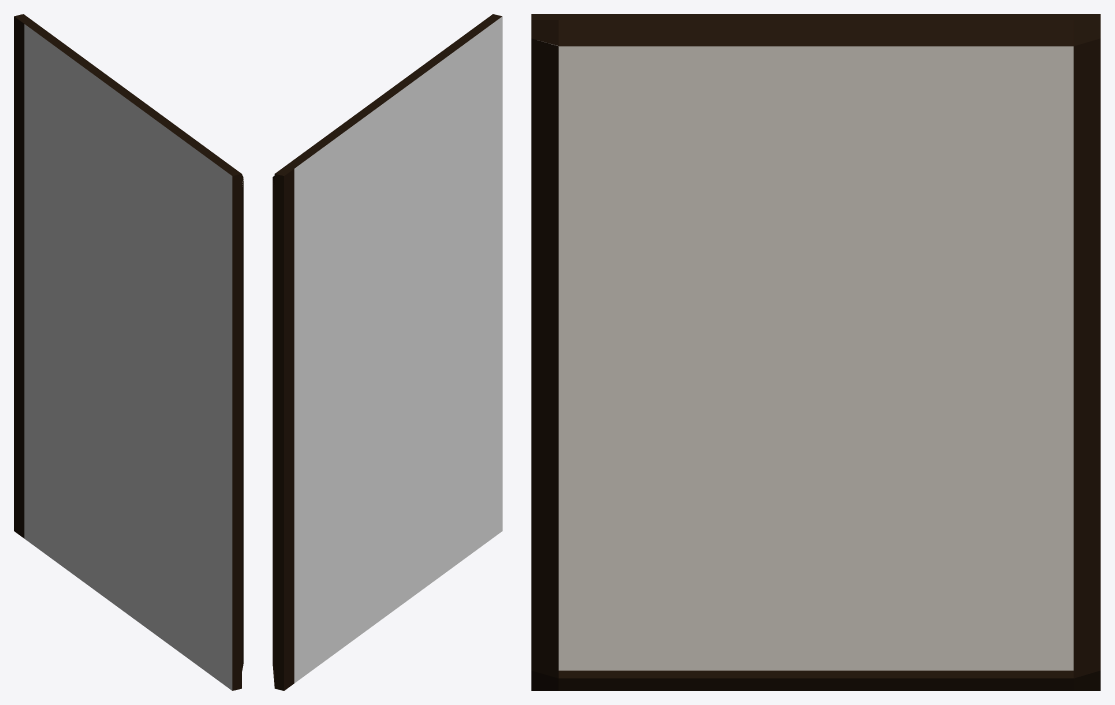
File: portrait.fbx
The picture shows the model from 3 angles, left to right: view 1: azimuth 30°, elevation 25°; view 2: azimuth 150°, elevation 25°; view 3: azimuth 270°, elevation 25°; orthographic projection. The views are drawn at different scales.
Visible parts, largest first — view 1: Cube; view 2: Cube; view 3: Cube.
Boxes of the visible parts, <box> form: Cube: <box>14,14,243,690</box>; Cube: <box>272,14,502,690</box>; Cube: <box>531,14,1100,690</box>.
Size of the model in its own units: 11.62 by 260 by 200.
